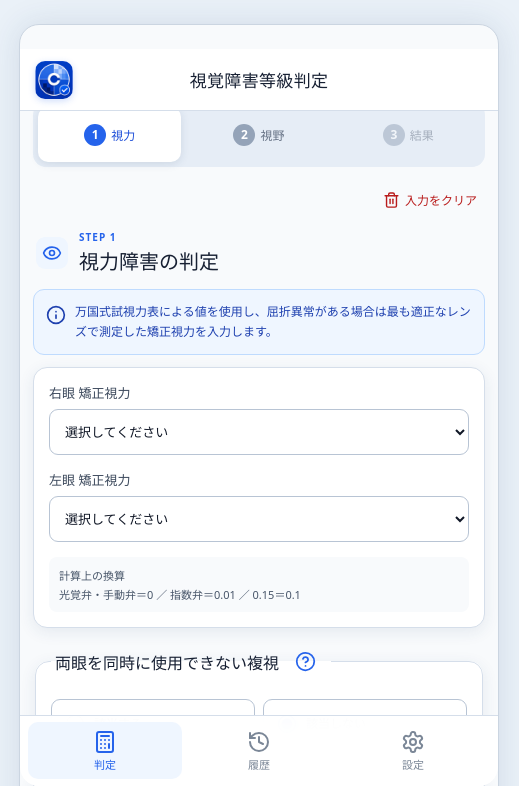
Test: 判定フロー › 矯正視力確認後に視力判定し、視野ステップへ進む
Select "0.04" in the dropdown labelled "右眼 矯正視力" at (259, 432), box left=49, top=409, right=469, bottom=455
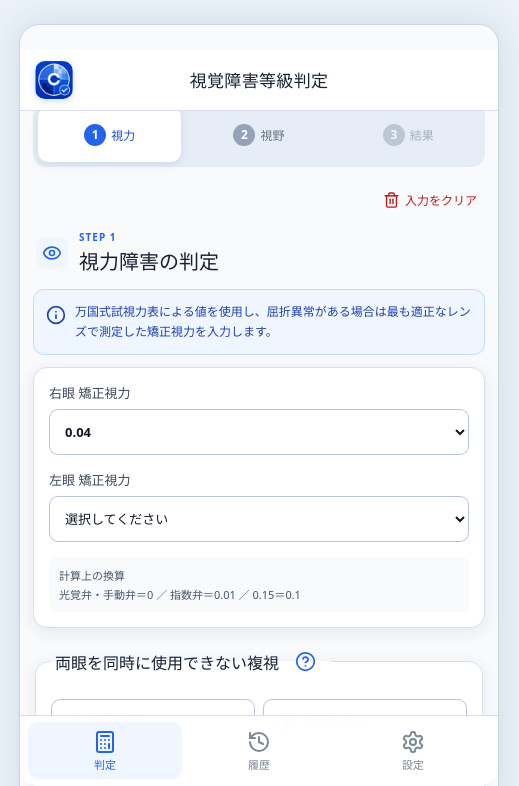
Select "手動弁" in the dropdown labelled "左眼 矯正視力" at (259, 519), box left=49, top=496, right=469, bottom=542
(page scrolled)
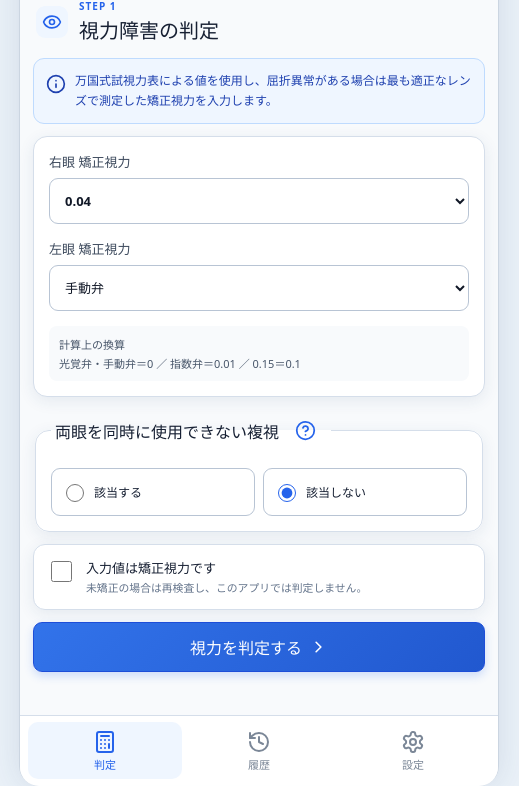
Click the checkbox labelled "入力値は矯正視力です 未矯正の場合は再検査し、このアプリでは判定しません。" at (62, 571), box left=51, top=561, right=72, bottom=582
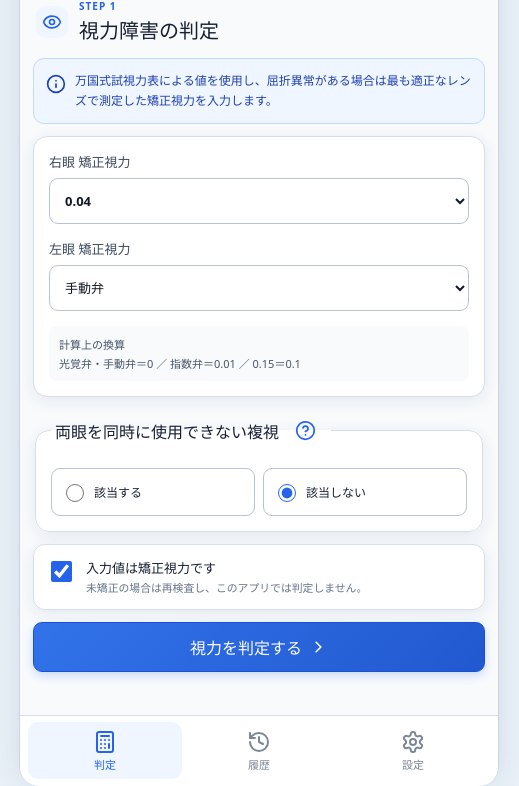
Click the button "視力を判定する" at (259, 647), box left=33, top=622, right=485, bottom=672
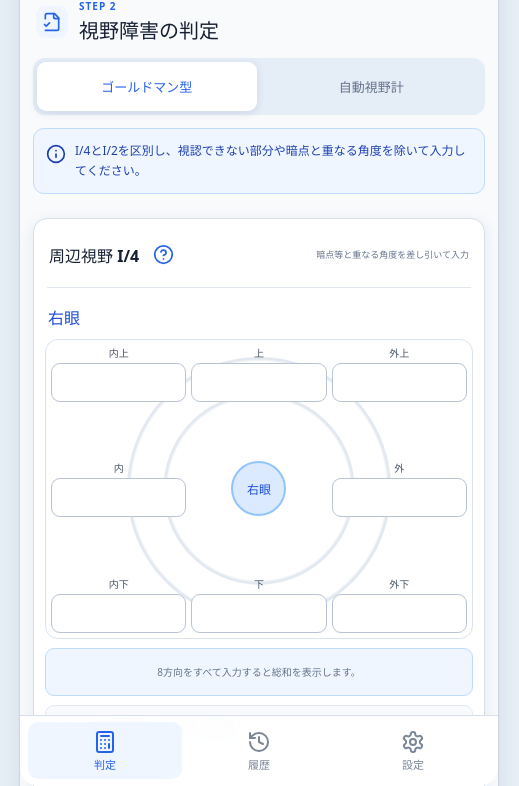
Check: the heading "視野障害の判定" is shown, box left=79, top=15, right=219, bottom=44
